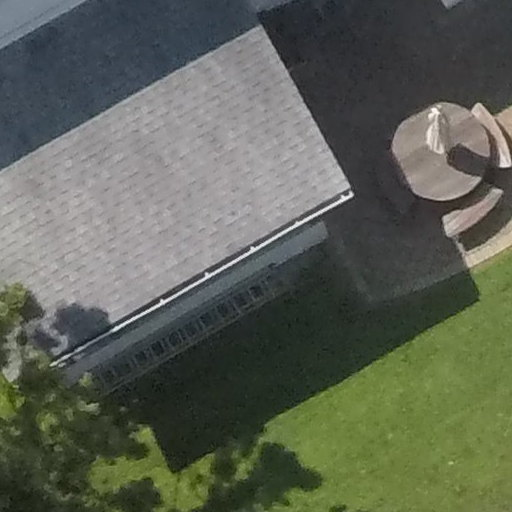table: (378, 97, 501, 215)
